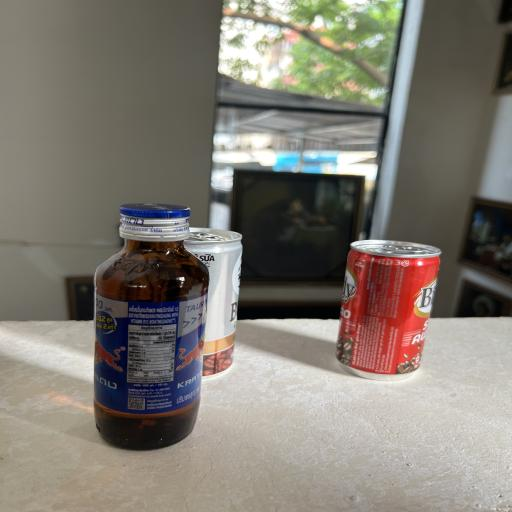birdy: (331, 237, 443, 384)
bo_huc: (92, 200, 200, 452)
boss_coffee: (161, 223, 245, 384)
